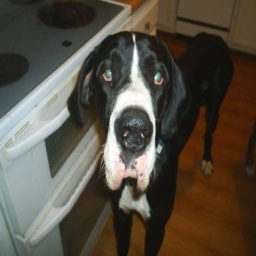dog: (65, 30, 233, 256)
